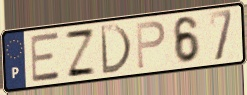6: (171, 14, 203, 67)
7: (208, 7, 234, 64)
D: (98, 23, 134, 76)
E: (29, 30, 63, 84)
P: (134, 19, 167, 71)
Z: (63, 28, 98, 79)
